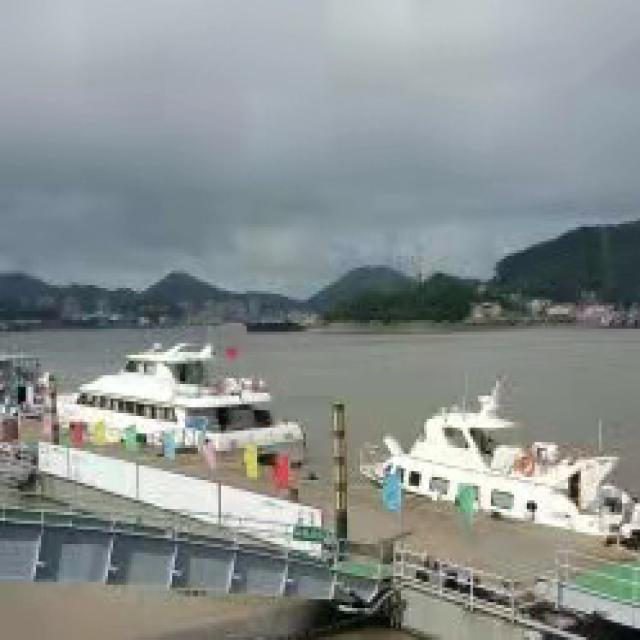houseboat: (355, 389, 638, 541), (51, 339, 306, 468)
